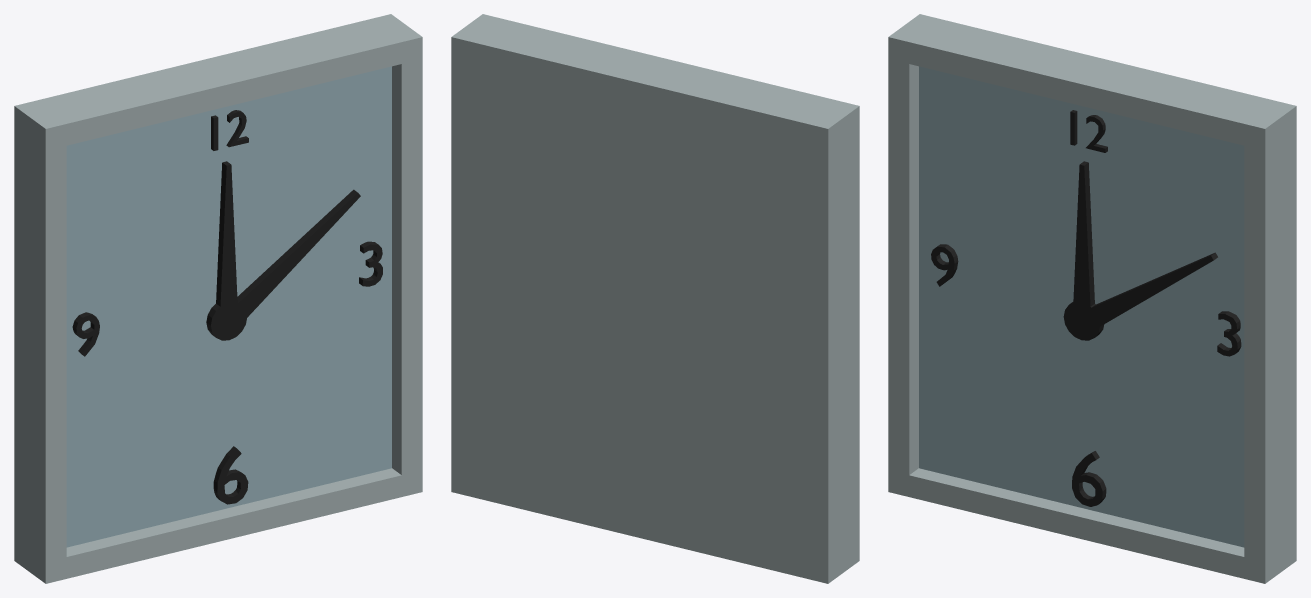
File: Clock.fbx
3 renders of one model, left to right at view 1: azimuth 30°, elevation 25°; view 2: azimuth 150°, elevation 25°; view 3: azimuth 330°, elevation 25°, orthographic.
Visible parts, largest first — view 1: Clock; view 2: Clock; view 3: Clock.
Part boxes in pixels (bbox=[...]): Clock: bbox=[14, 14, 422, 583]; Clock: bbox=[451, 14, 859, 583]; Clock: bbox=[888, 14, 1296, 583].
Size of the model in its own units: 0.5542 by 0.6394 by 0.0803.
